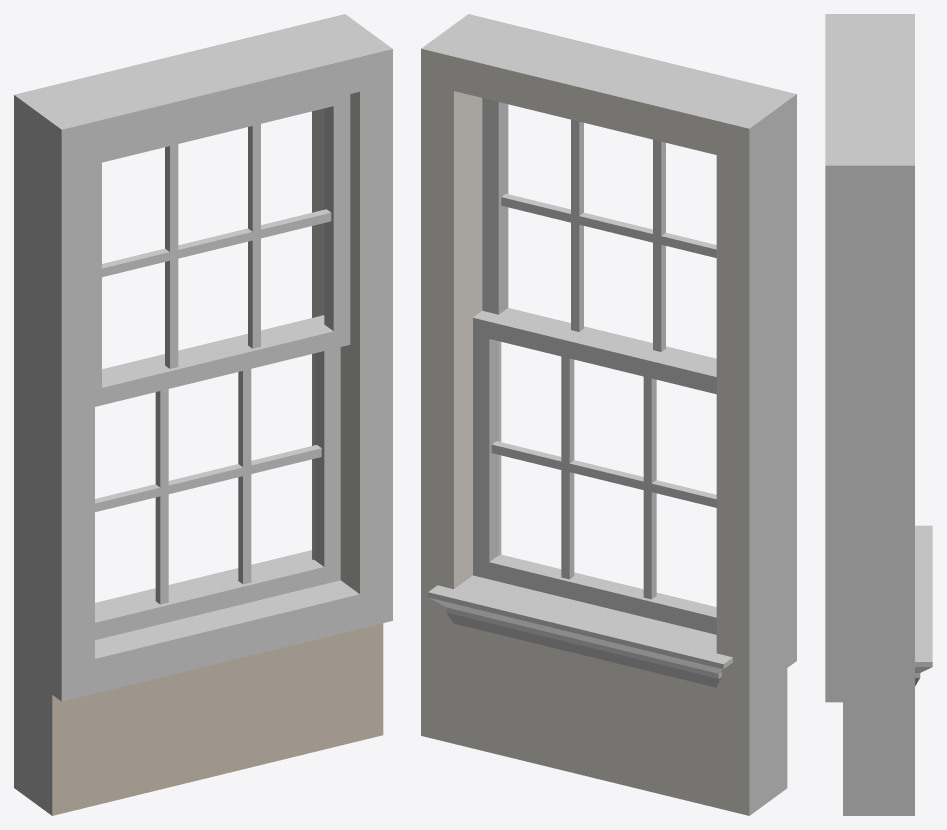
The model's file is Structure_Exterior_Window_Single.glb.
3 views of the same model, side by side, from view 1: azimuth 30°, elevation 25°; view 2: azimuth 150°, elevation 25°; view 3: azimuth 270°, elevation 25° (orthographic). The views are drawn at different scales.
Visible parts, largest first — view 1: Structure_Exterior_Window_Single; view 2: Structure_Exterior_Window_Single; view 3: Structure_Exterior_Window_Single.
Boxes of the visible parts, box(x1,y1,x2,y2) form: Structure_Exterior_Window_Single: box(14, 14, 392, 815); Structure_Exterior_Window_Single: box(421, 14, 796, 815); Structure_Exterior_Window_Single: box(825, 14, 932, 815).
Bounding box in the file's own units: 1 × 2 × 0.3.
